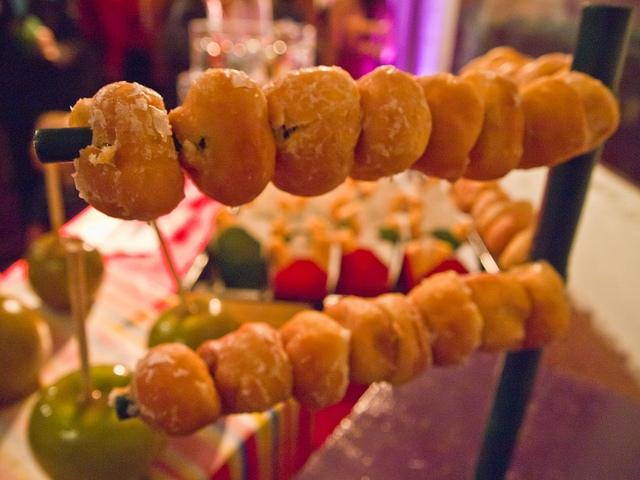apple: (28, 365, 166, 480), (28, 233, 104, 320), (0, 292, 54, 404), (148, 297, 241, 352)
